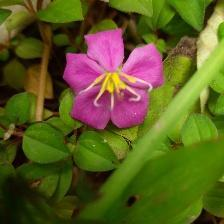malabar melastome: (61, 26, 168, 132)
